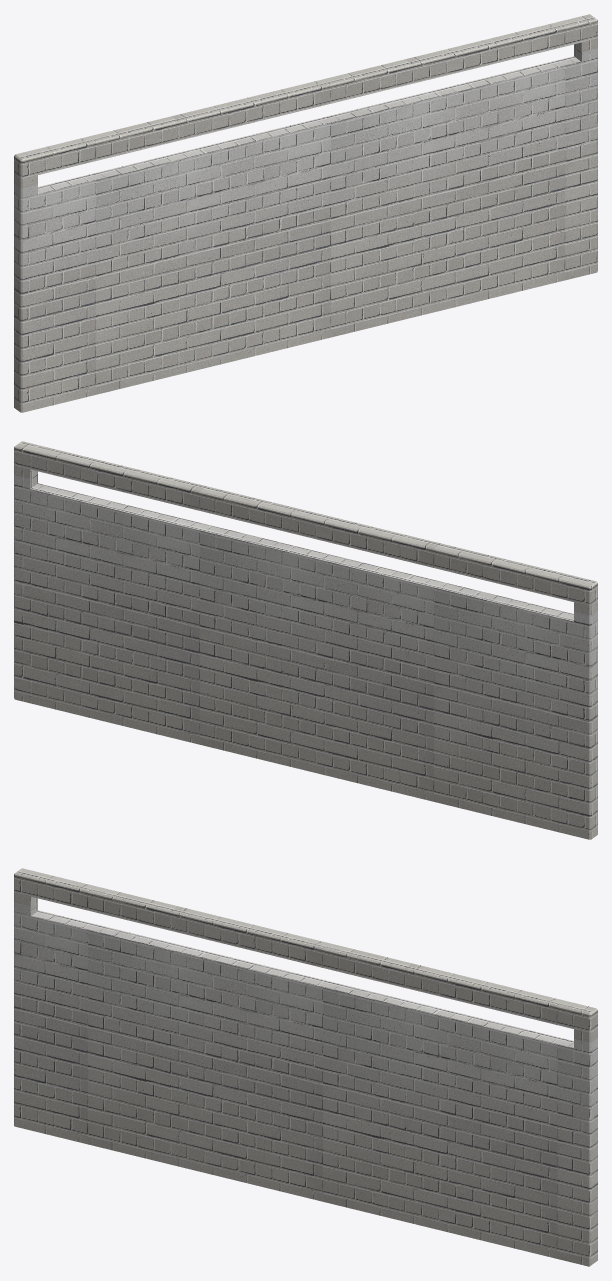
Rendered from aws_RoomWall_01_visual.DAE.
The picture shows the model from 3 angles, top to bottom: view 1: azimuth 30°, elevation 25°; view 2: azimuth 150°, elevation 25°; view 3: azimuth 330°, elevation 25°; orthographic projection.
Visible parts, largest first — view 1: aws_RoomWall_01_visual; view 2: aws_RoomWall_01_visual; view 3: aws_RoomWall_01_visual.
Part boxes in pixels (x1,y1,x2,y2): aws_RoomWall_01_visual: (14, 14, 597, 412); aws_RoomWall_01_visual: (14, 441, 597, 839); aws_RoomWall_01_visual: (14, 868, 597, 1266).
Bounding box in the file's own units: 443 × 10.48 × 186.
Materials: 1 (1 with a texture image).
